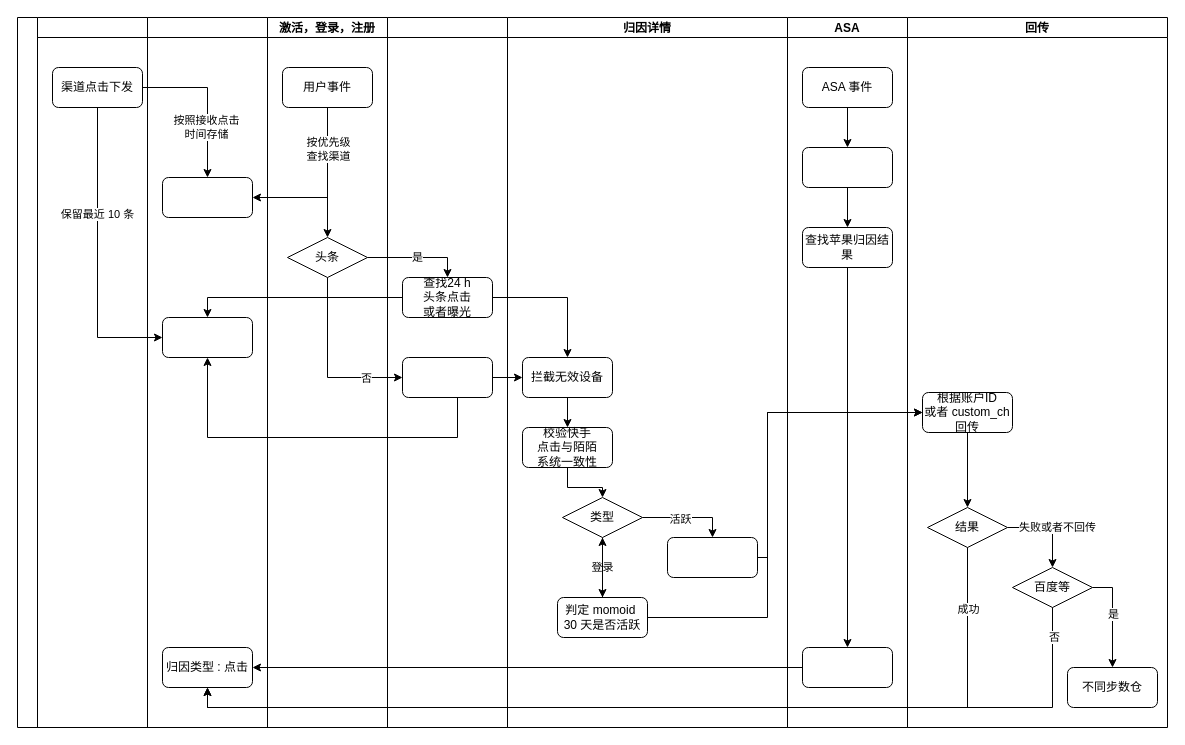
Image size: 1185x745. Some labels were removed from this diagram. The shapes that lost their labels are listed below. From the top down, each one's box as (x1, y1, x2, y2) in pixels, then its label:
(802, 146, 892, 188): 获取苹果 token
(162, 176, 252, 218): 设备 : 渠道
(162, 316, 252, 358): 设备 : 点击
(36, 16, 148, 728): 点击事件
(16, 16, 388, 728): Pool
(146, 16, 268, 728): DB&数仓
(386, 16, 508, 728): 点击查找
(402, 356, 492, 398): 查找 24h 对应渠道点击
(666, 536, 758, 578): 判定 30 是否活跃过
(802, 646, 892, 688): 存储归因结果
